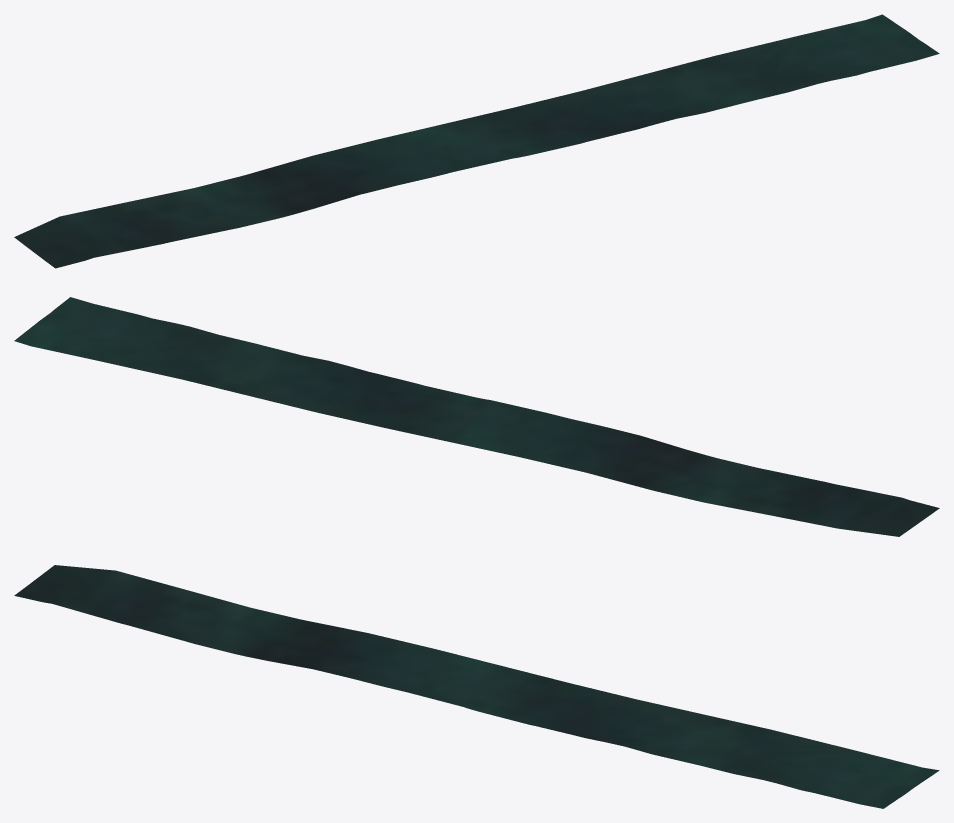
3 renders of one model, top to bottom at view 1: azimuth 30°, elevation 25°; view 2: azimuth 150°, elevation 25°; view 3: azimuth 330°, elevation 25°, orthographic.
Size of the model in its own units: 52.22 by 0.4221 by 5.87.
Materials: 1 (1 with a texture image).
